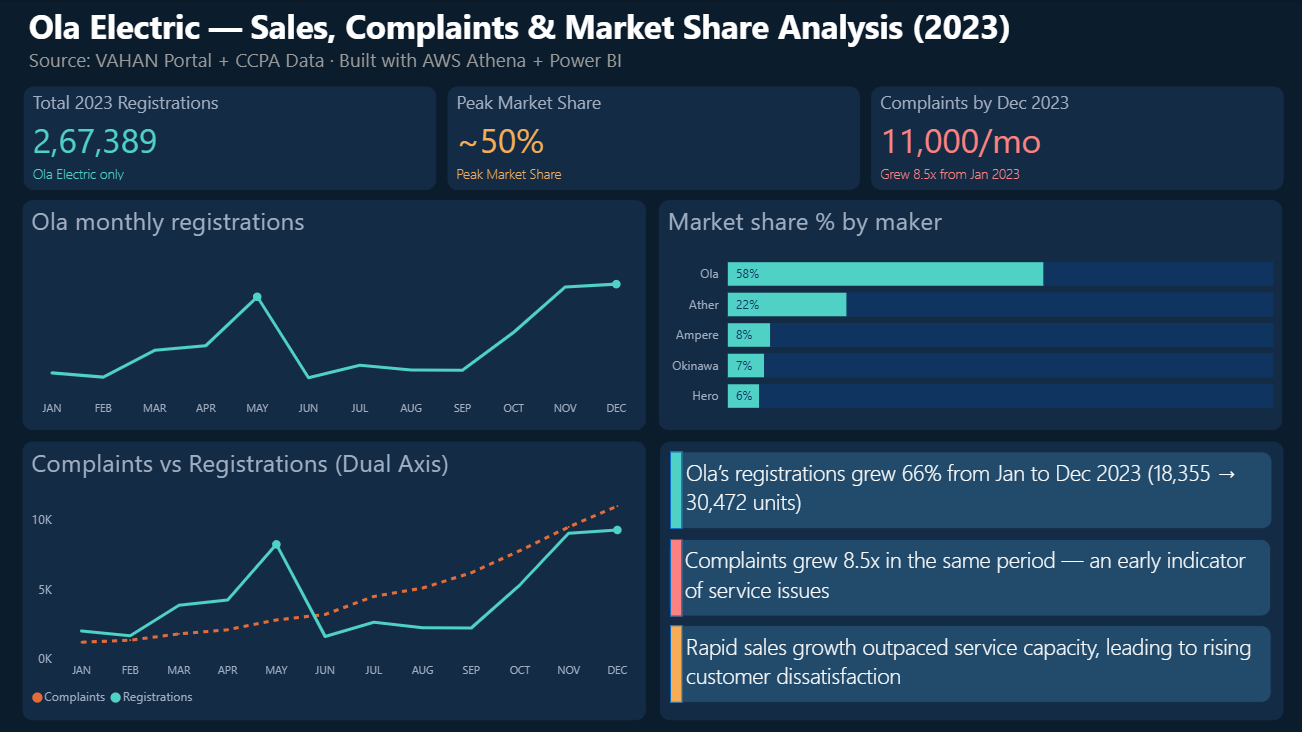

The page's visual inventory and layout, read from the dashboard file:
{"tool":"powerbi","page":{"name":"Page 1","canvas":[1280,720],"ordinal":0},"visuals":[{"type":"textbox","box":[23.3,0,1002.5,85.9],"z":0},{"type":"textbox","box":[647.9,434.4,612.3,273.6],"z":0,"group":"g1"},{"type":"cardVisual","title":"Total 2023 Registrations","fields":{"Data":["complaints_vs_sales.Total Registrations"]},"box":[23.3,85.9,404.9,101.8],"z":1000},{"type":"textbox","box":[657.7,444.2,591.4,76],"z":1000,"group":"g1"},{"type":"cardVisual","title":"Peak Market Share","fields":{"Data":["complaints_vs_sales.Peak Market Share"]},"box":[439.3,85.9,404.9,101.8],"z":2000},{"type":"textbox","box":[656.5,530.1,591.4,76],"z":2000,"group":"g1"},{"type":"cardVisual","title":"Complaints by Dec 2023","fields":{"Data":["complaints_vs_sales.Max Monthly Complaints"]},"box":[855.2,85.9,404.9,101.8],"z":3000},{"type":"textbox","box":[657.7,614.8,590.2,76],"z":3000,"group":"g1"},{"type":"lineChart","title":"Ola monthly registrations","fields":{"Y":["Sum(complaints_vs_sales.registrations)"],"Category":["complaints_vs_sales.month"]},"box":[22.1,197.5,612.3,225.8],"z":4000},{"type":"barChart","title":"Market share % by maker","fields":{"Category":["market_share.maker"],"Y":["market_share.Avg Market Share","market_share.Remaining"]},"box":[646.6,197.5,612.3,225.8],"z":5000},{"type":"lineChart","title":"Complaints vs Registrations (Dual Axis)","fields":{"Y":["Sum(complaints_vs_sales.complaints)"],"Category":["complaints_vs_sales.month"],"Y2":["Sum(complaints_vs_sales.registrations)"]},"box":[22.1,434.4,612.3,273.6],"z":6000},{"type":"group","id":"g1","title":"Group 1","box":[647.9,434.4,612.3,273.6],"z":7000},{"type":"shape","box":[657.7,444.2,12,76.1],"z":8000},{"type":"shape","box":[657.7,614.7,12.3,76.1],"z":9000},{"type":"shape","box":[657.7,530.1,12,76.1],"z":10000}]}

Visuals, with their boxes in screenshot pixels (x1, y1, x2, y2), scaled from the page's 1280x720 canvas onto the 1302x732 screenshot:
textbox: bbox=[24, 0, 1043, 87]
textbox: bbox=[659, 442, 1282, 720]
"Total 2023 Registrations" cardVisual: bbox=[24, 87, 436, 191]
textbox: bbox=[669, 452, 1271, 529]
"Peak Market Share" cardVisual: bbox=[447, 87, 859, 191]
textbox: bbox=[668, 539, 1269, 616]
"Complaints by Dec 2023" cardVisual: bbox=[870, 87, 1282, 191]
textbox: bbox=[669, 625, 1269, 702]
"Ola monthly registrations" lineChart: bbox=[22, 201, 645, 430]
"Market share % by maker" barChart: bbox=[658, 201, 1281, 430]
"Complaints vs Registrations (Dual Axis)" lineChart: bbox=[22, 442, 645, 720]
"Group 1" group: bbox=[659, 442, 1282, 720]
shape: bbox=[669, 452, 681, 529]
shape: bbox=[669, 625, 682, 702]
shape: bbox=[669, 539, 681, 616]
